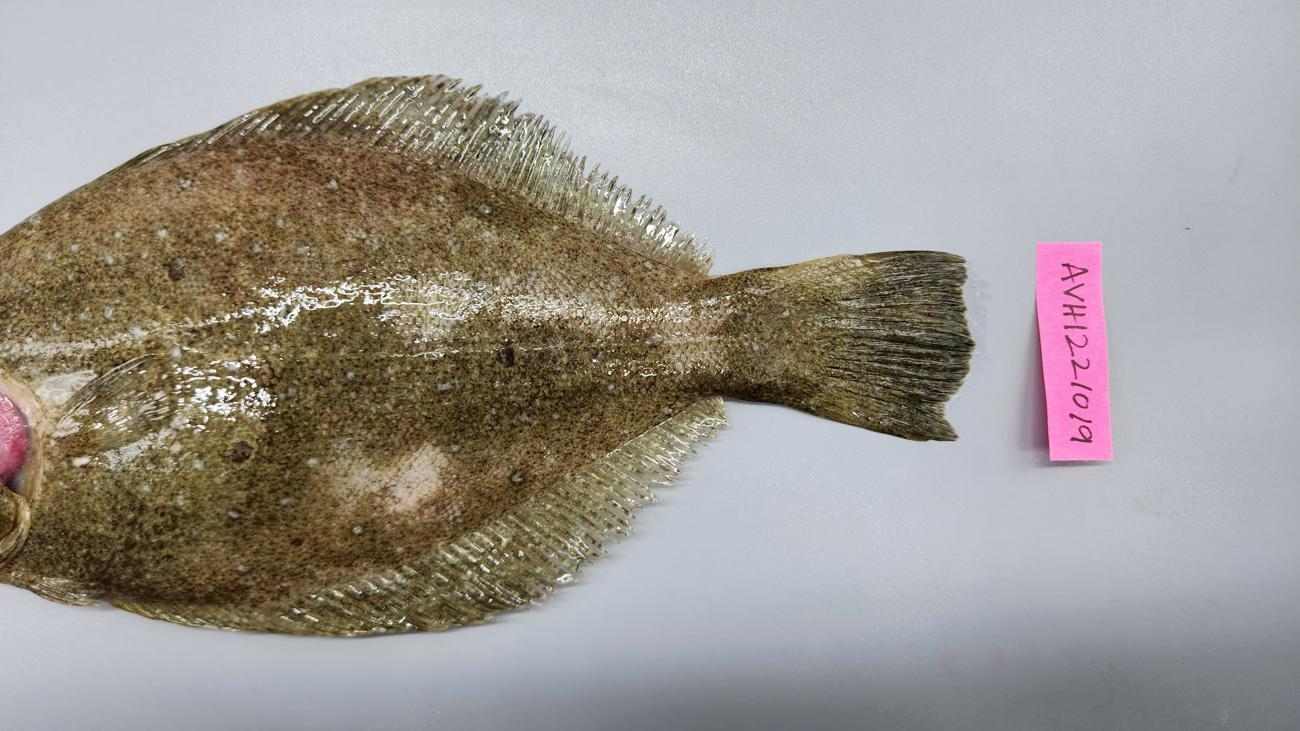VIDYH: (159, 433, 560, 608), (46, 144, 467, 301)
